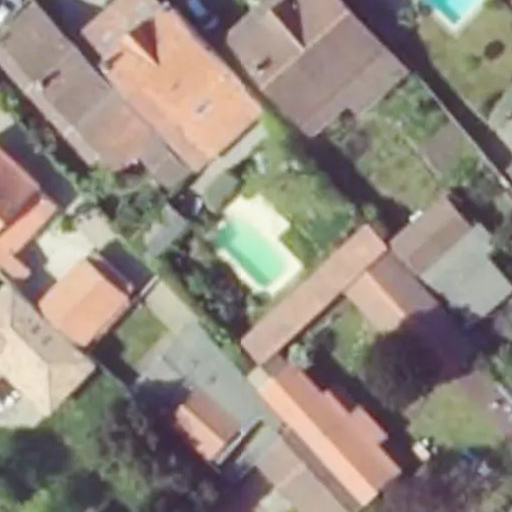pool: (213, 216, 294, 289)
